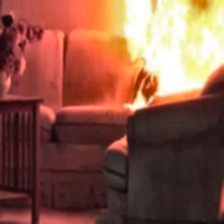fire: (114, 0, 224, 117)
